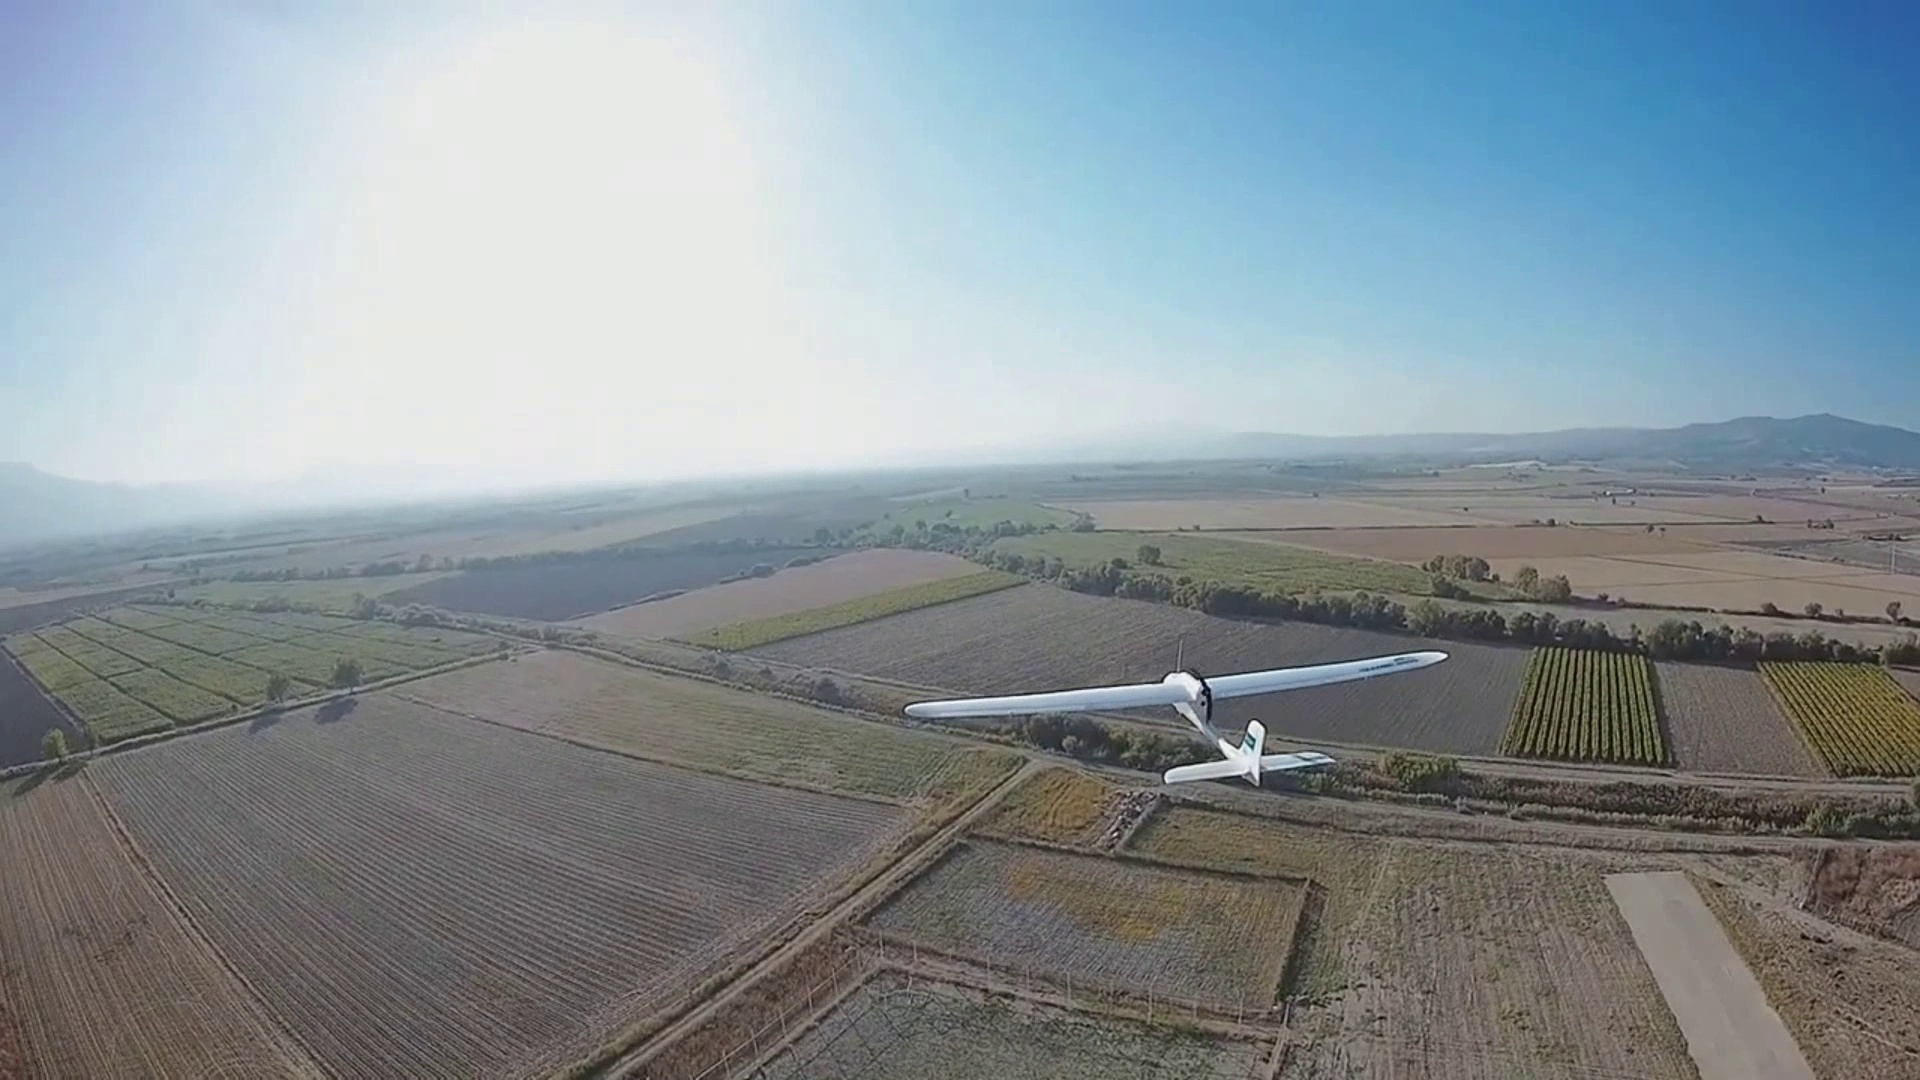airplane: (895, 653, 1451, 795)
